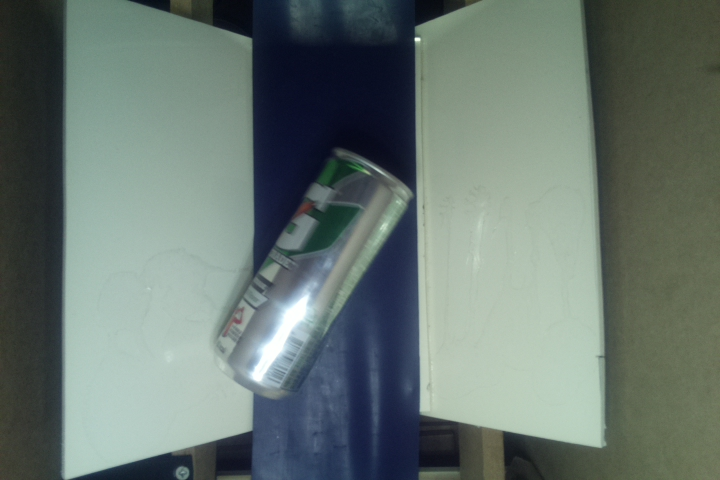can: (210, 143, 413, 401)
